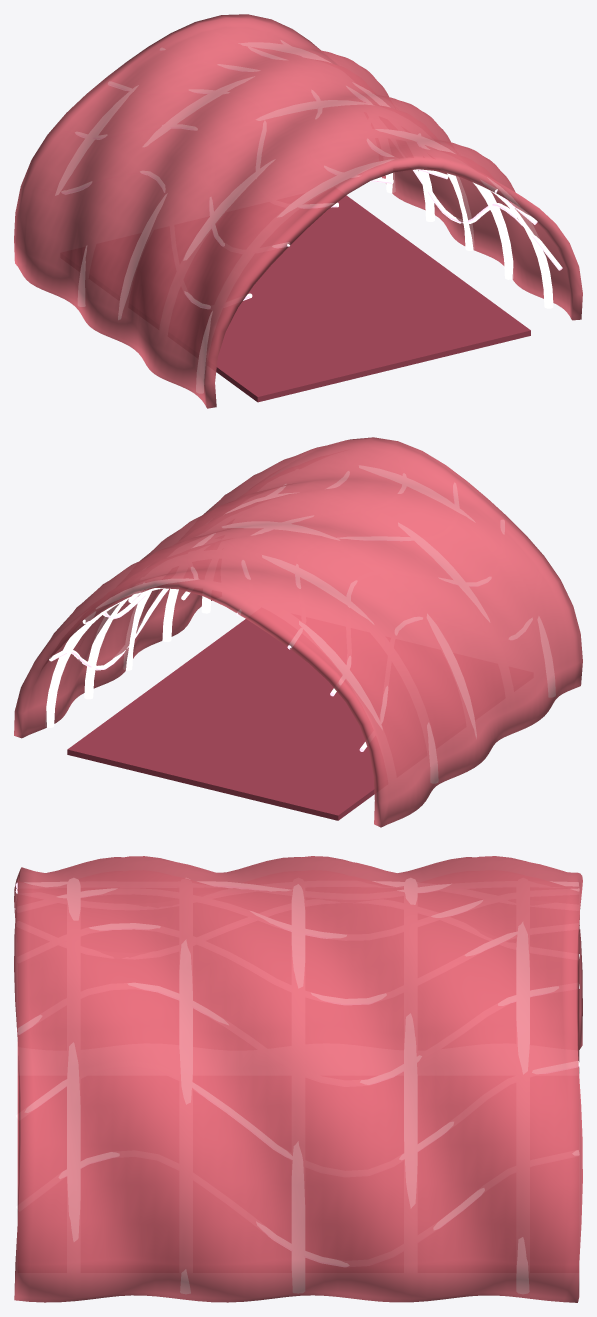
File: T07_BloodVessel_Tunnel.glb
3 renders of one model, top to bottom at view 1: azimuth 30°, elevation 25°; view 2: azimuth 150°, elevation 25°; view 3: azimuth 270°, elevation 25°, orthographic. The views are drawn at different scales.
Parts seen in each view (by area): view 1: T07_BloodVessel_Tunnel_Mesh; view 2: T07_BloodVessel_Tunnel_Mesh; view 3: T07_BloodVessel_Tunnel_Mesh.
Boxes of the visible parts, x1,y1,x2,y2 form: T07_BloodVessel_Tunnel_Mesh: (14,14,582,408); T07_BloodVessel_Tunnel_Mesh: (14,437,582,827); T07_BloodVessel_Tunnel_Mesh: (14,856,582,1302).
Size of the model in its own units: 11.21 by 5.76 by 10.13.
